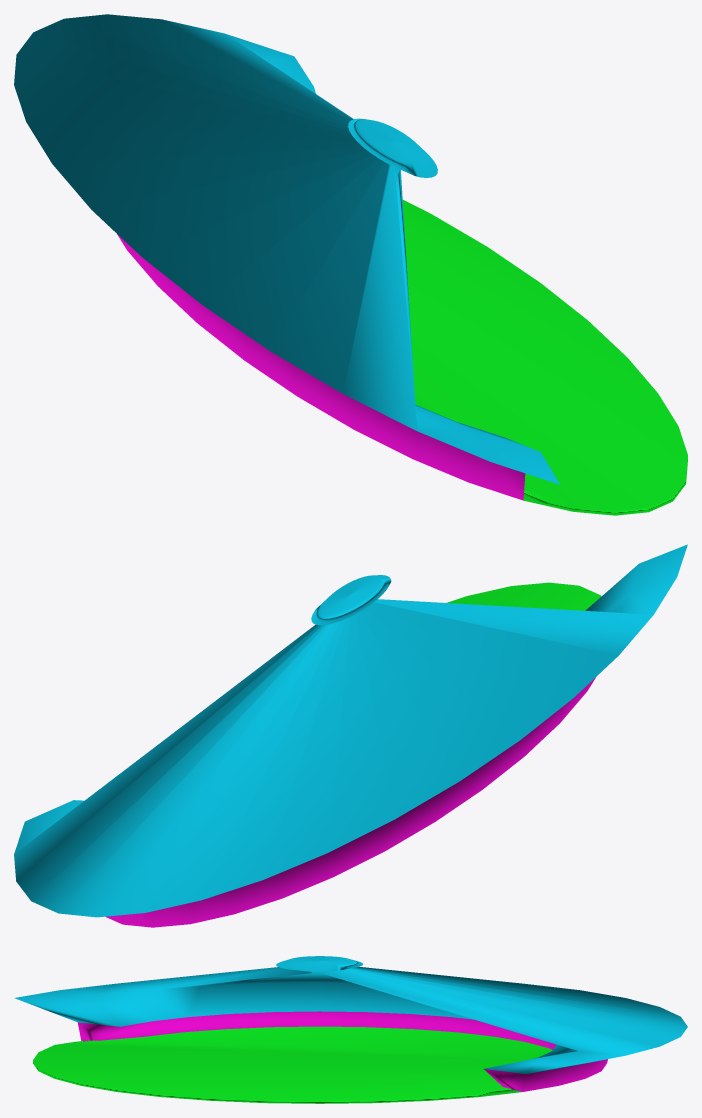
File: chozaB.fbx
3 renders of one model, top to bottom at view 1: azimuth 30°, elevation 25°; view 2: azimuth 150°, elevation 25°; view 3: azimuth 270°, elevation 25°, orthographic. The views are drawn at different scales.
Parts seen in each view (by area): view 1: Cylinder.001; view 2: Cylinder.001; view 3: Cylinder.001.
Part boxes in pixels (bbox=[...]): Cylinder.001: bbox=[14, 14, 687, 515]; Cylinder.001: bbox=[14, 544, 687, 927]; Cylinder.001: bbox=[14, 956, 687, 1103].
Bounding box in the file's own units: 4.98 × 2.59 × 15.36.
